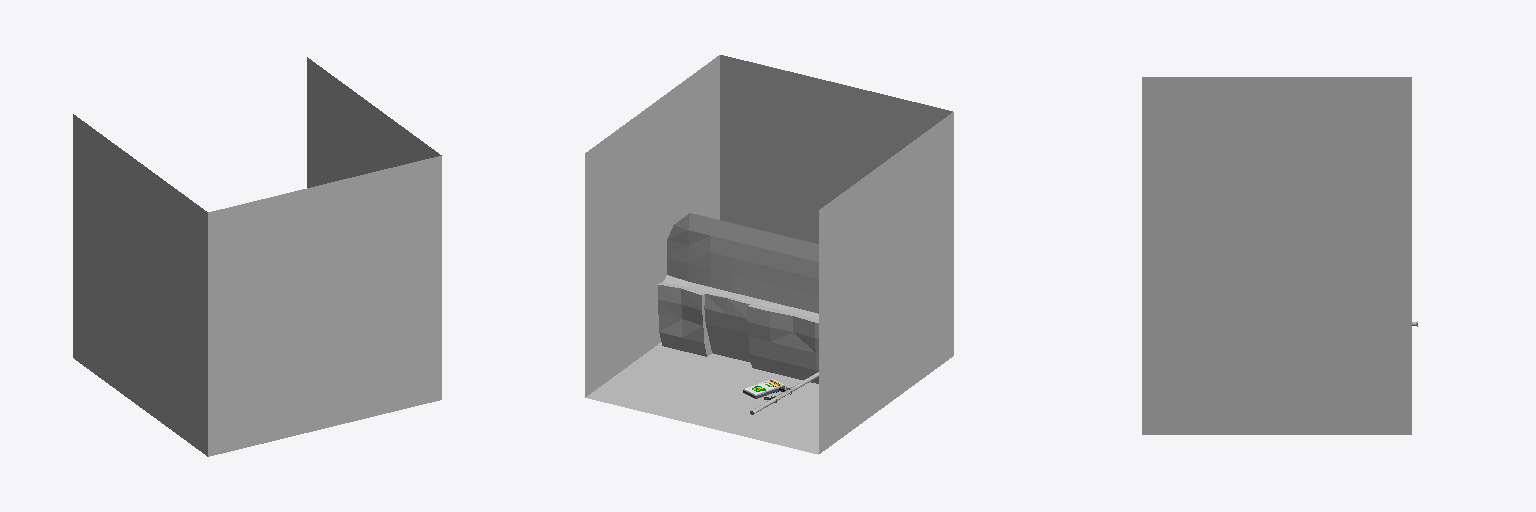
The picture shows the model from 3 angles: view 1: azimuth 30°, elevation 25°; view 2: azimuth 150°, elevation 25°; view 3: azimuth 270°, elevation 25°; orthographic projection.
Parts seen in each view (by area): view 1: Cube.004; view 2: Cube.004, Plane.003; view 3: Cube.004.
Part boxes in pixels (x1,y1,x2,y2): Cube.004: (73,57,441,456); Cube.004: (585,55,953,454); Plane.003: (658,213,818,383); Cube.004: (1142,77,1411,434).
Bounding box in the file's own units: 9.48 × 9.5 × 9.69.
4 materials, 1 textured.